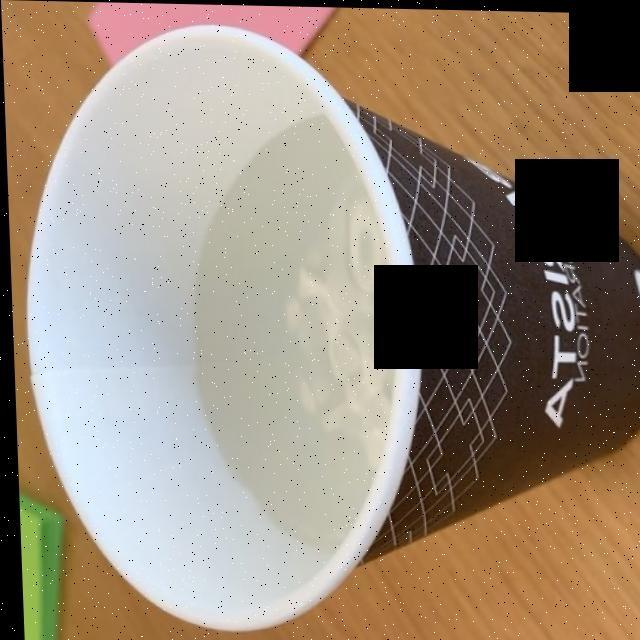water: (186, 173, 387, 532)
